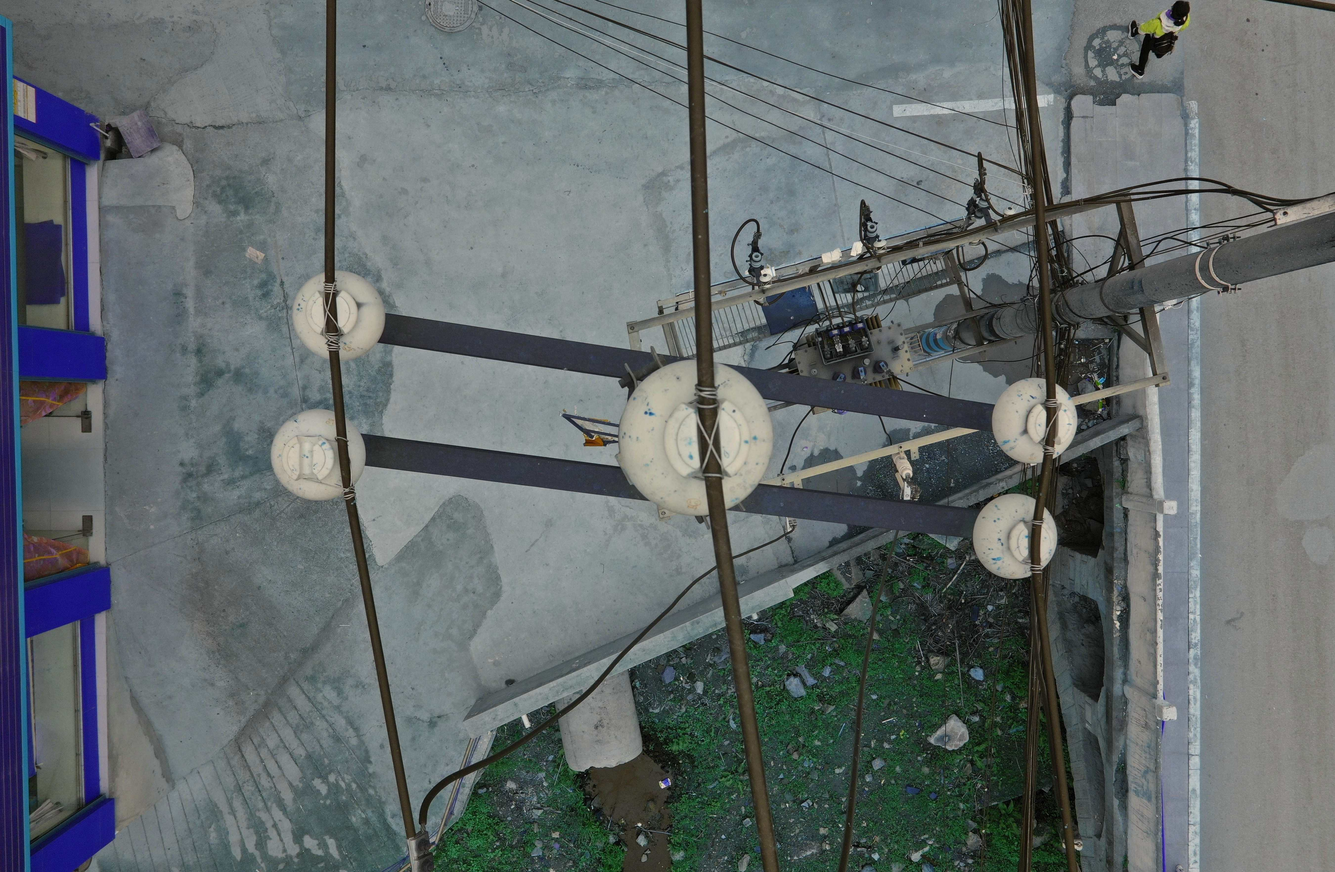severe_soiling_no_discharge_whole: (612, 359, 778, 519), (267, 406, 369, 504), (969, 486, 1063, 584), (990, 370, 1083, 467)
